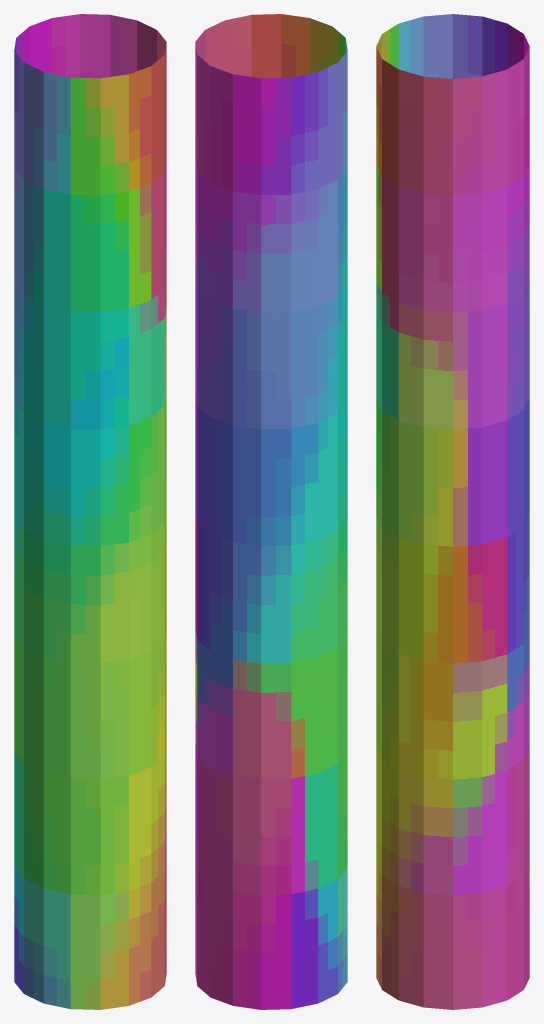
File: nokigate_bake.dae
3 renders of one model, left to right at view 1: azimuth 30°, elevation 25°; view 2: azimuth 150°, elevation 25°; view 3: azimuth 270°, elevation 25°, orthographic.
Parts seen in each view (by area): view 1: m0; view 2: m0; view 3: m0.
Part boxes in pixels (x1,y1,x2,y2): m0: (14,14,166,1009); m0: (195,14,347,1009); m0: (376,14,529,1009).
Size of the model in its own units: 764 by 5109 by 764.
Materials: 2 (2 with a texture image).
